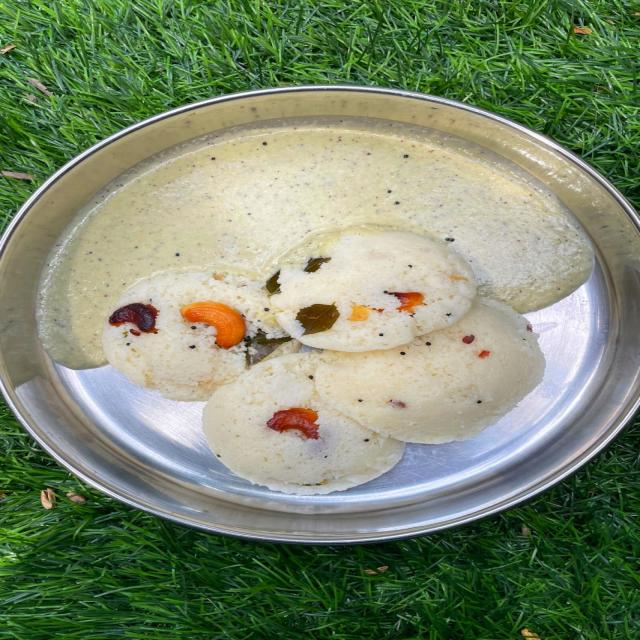rave idli: (318, 304, 554, 448), (190, 346, 404, 501), (270, 214, 489, 355), (88, 266, 292, 408)
